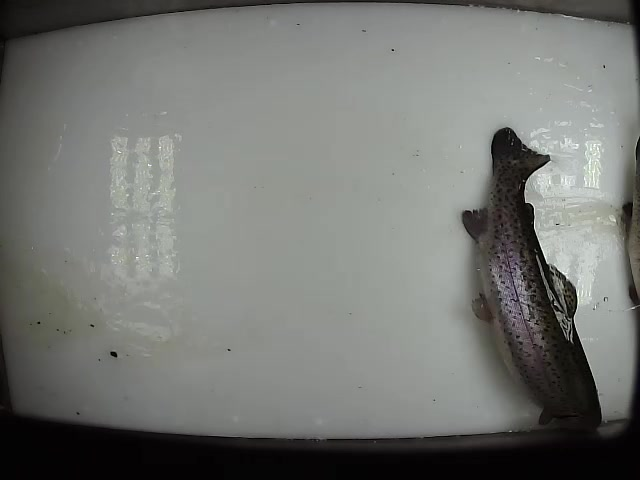fish: (460, 125, 605, 436)
